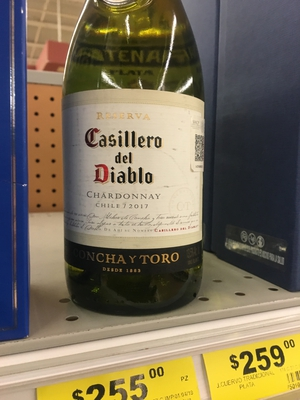casillero del diablo chardonnay: (53, 10, 200, 305)
